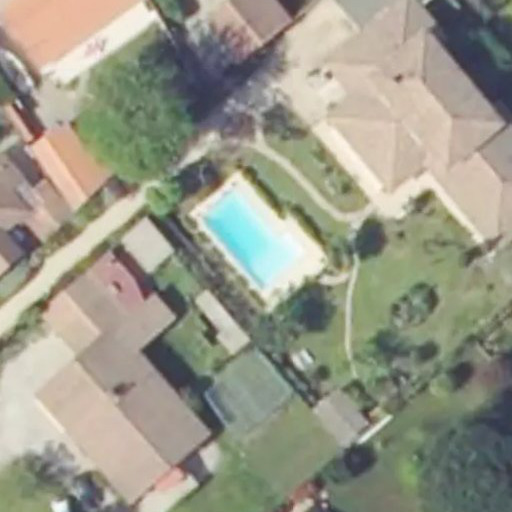pool: (193, 178, 319, 297)
